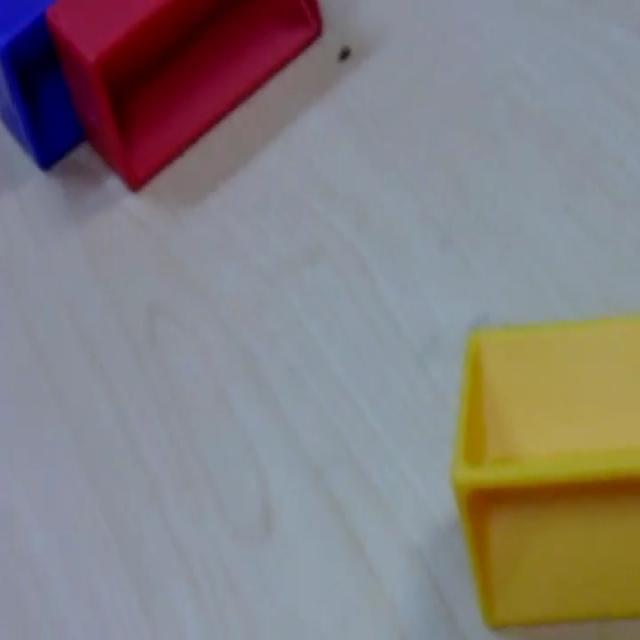red_block: (44, 0, 324, 192)
yellow_block: (451, 311, 638, 629)
